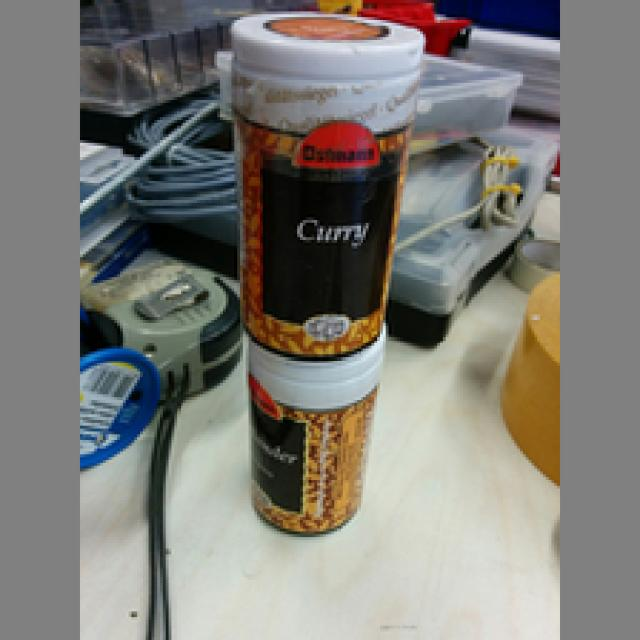groceries: (228, 9, 426, 377), (245, 349, 388, 534)
